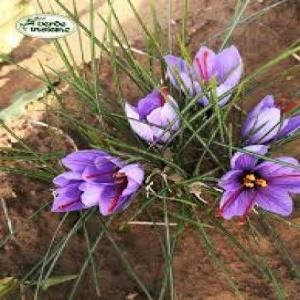Saffron: (221, 145, 300, 219), (164, 45, 245, 112), (123, 90, 188, 146), (237, 97, 300, 143), (79, 153, 145, 195)
